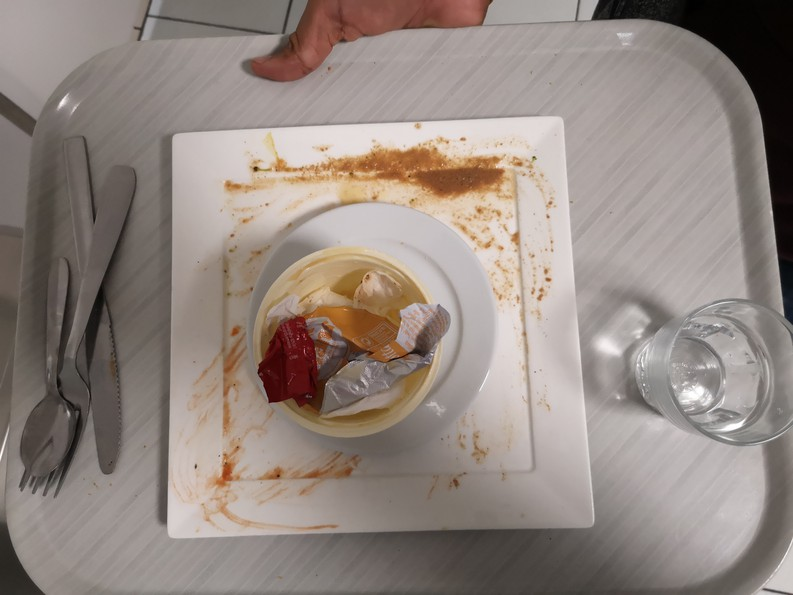cup: (624, 286, 793, 458)
cutlery: (9, 121, 162, 505)
trash: (249, 254, 451, 446)
